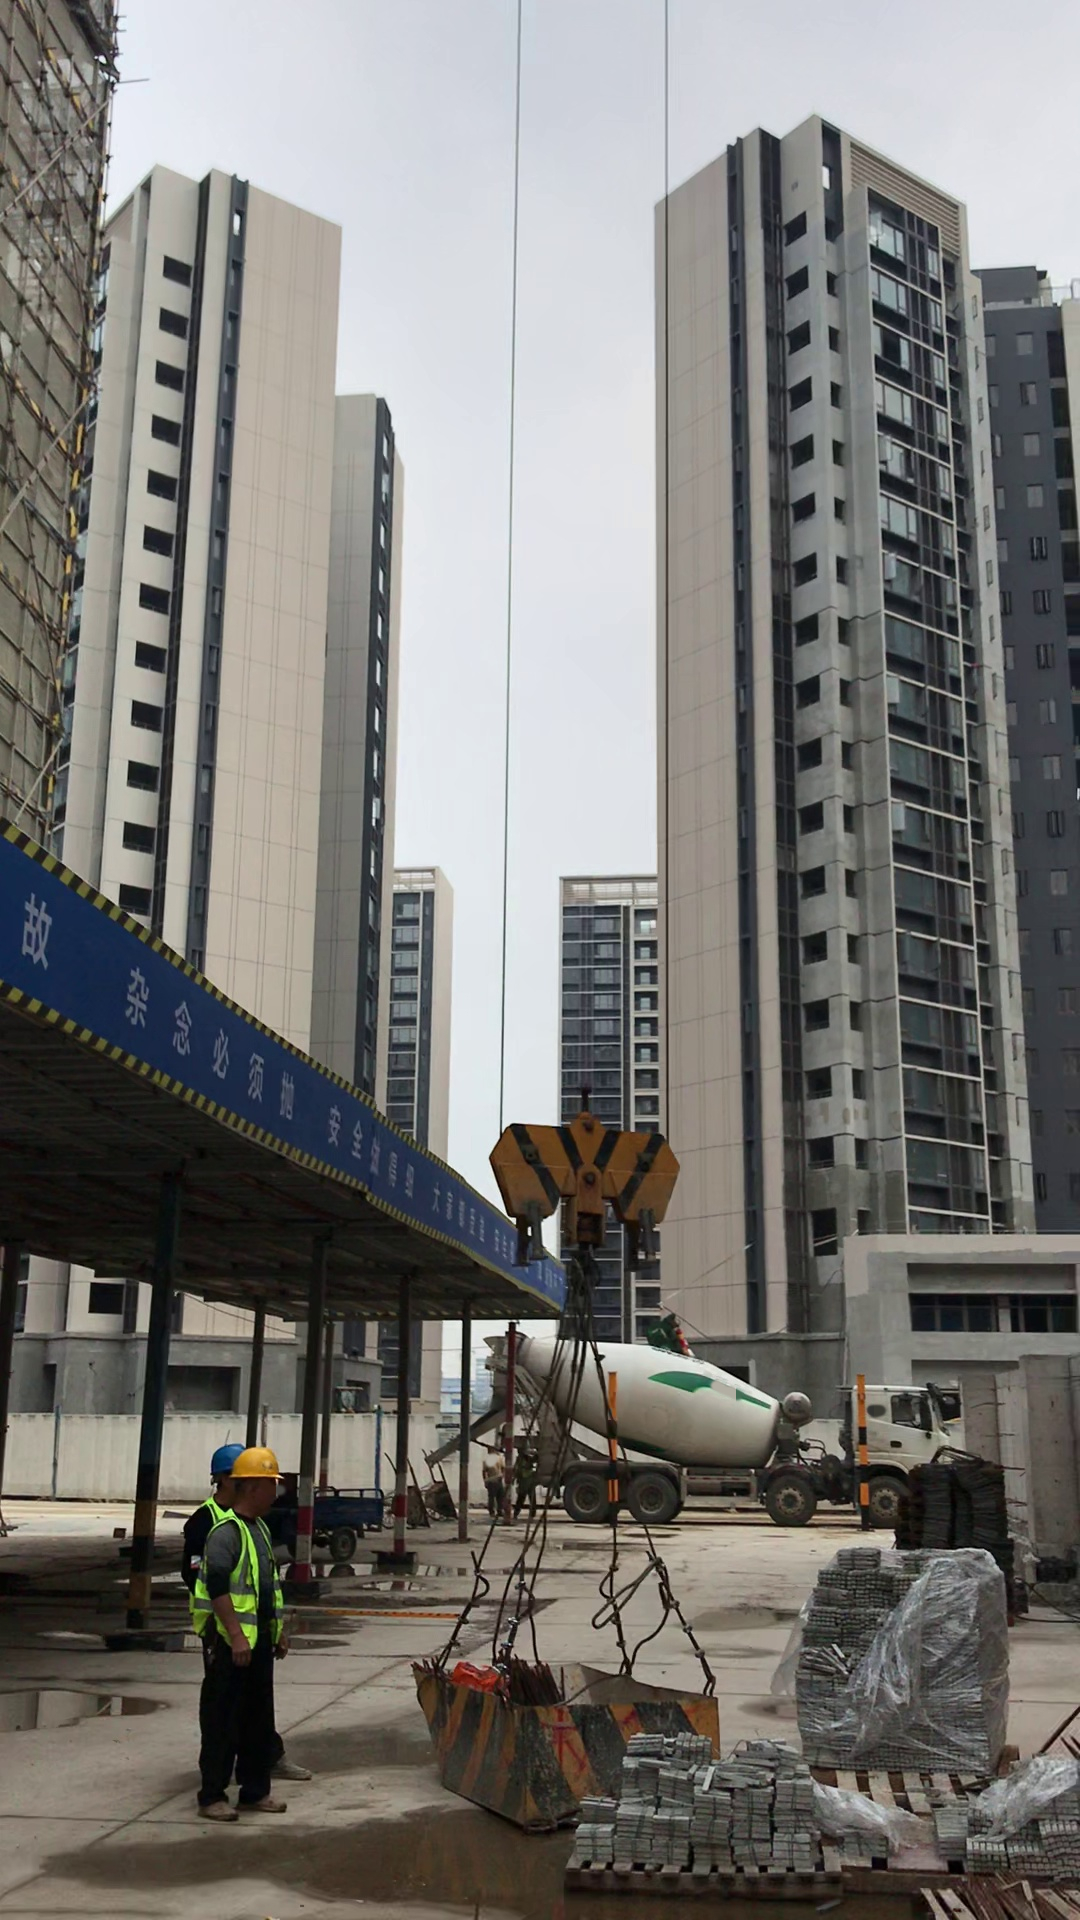handcart: (389, 1444, 463, 1536)
helmet: (228, 1440, 302, 1483), (205, 1426, 245, 1479)
hook: (477, 1100, 685, 1238)
person: (177, 1441, 291, 1825), (180, 1418, 248, 1606)
slogan: (10, 840, 481, 1265)
vest: (189, 1509, 286, 1647)
